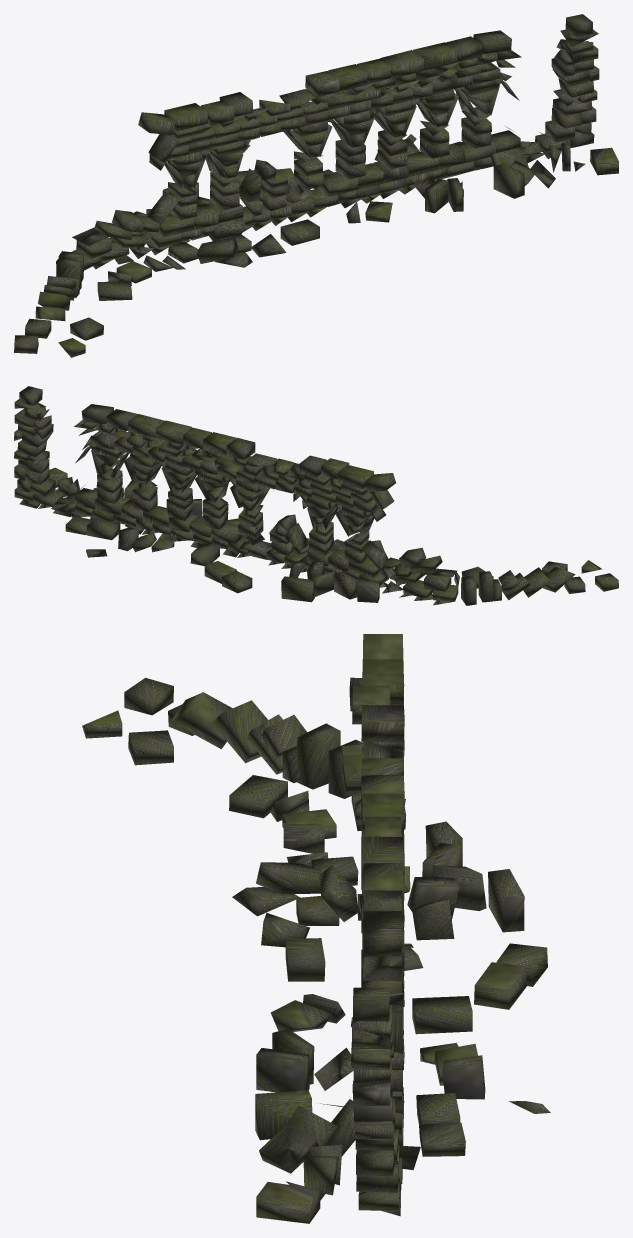
The model's file is abbey-ruins.zfix-v1.lod1.glb.
3 renders of one model, top to bottom at view 1: azimuth 30°, elevation 25°; view 2: azimuth 150°, elevation 25°; view 3: azimuth 270°, elevation 25°, orthographic. The views are drawn at different scales.
Visible parts, largest first — view 1: abbey_wall_Baked_abbey_wall_Bake1_baked_0; view 2: abbey_wall_Baked_abbey_wall_Bake1_baked_0; view 3: abbey_wall_Baked_abbey_wall_Bake1_baked_0.
Boxes of the visible parts, left/top/right/bottom form: abbey_wall_Baked_abbey_wall_Bake1_baked_0: left=14, top=14, right=618, bottom=357; abbey_wall_Baked_abbey_wall_Bake1_baked_0: left=14, top=386, right=618, bottom=605; abbey_wall_Baked_abbey_wall_Bake1_baked_0: left=82, top=634, right=550, bottom=1223.
Bounding box in the file's own units: 43.97 × 8.88 × 16.41.
1 material, 1 textured.
